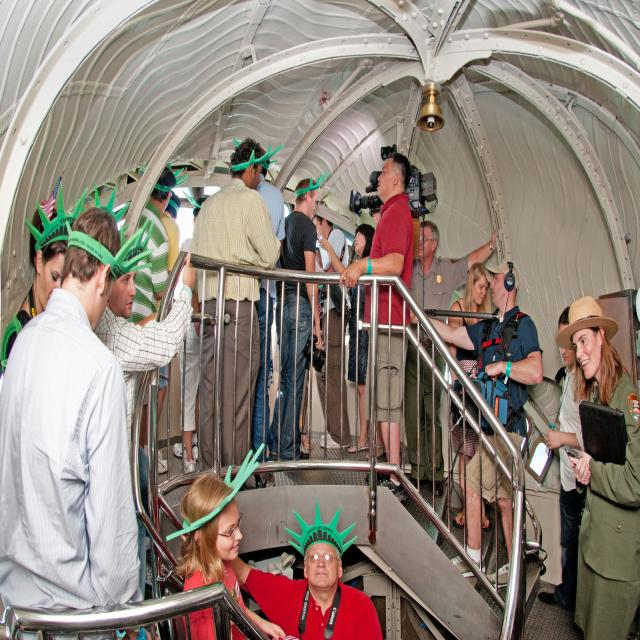body: (403, 253, 546, 588), (94, 216, 198, 601), (189, 134, 281, 492), (555, 294, 640, 640), (403, 219, 498, 498), (346, 151, 415, 499), (221, 502, 386, 640), (1, 182, 93, 380), (180, 474, 287, 640), (317, 222, 387, 461), (536, 304, 590, 612), (267, 173, 324, 462), (178, 194, 225, 477), (128, 164, 174, 452), (0, 204, 71, 382), (251, 147, 287, 490), (446, 261, 492, 529), (312, 213, 352, 450), (167, 193, 200, 464), (297, 422, 316, 453)
